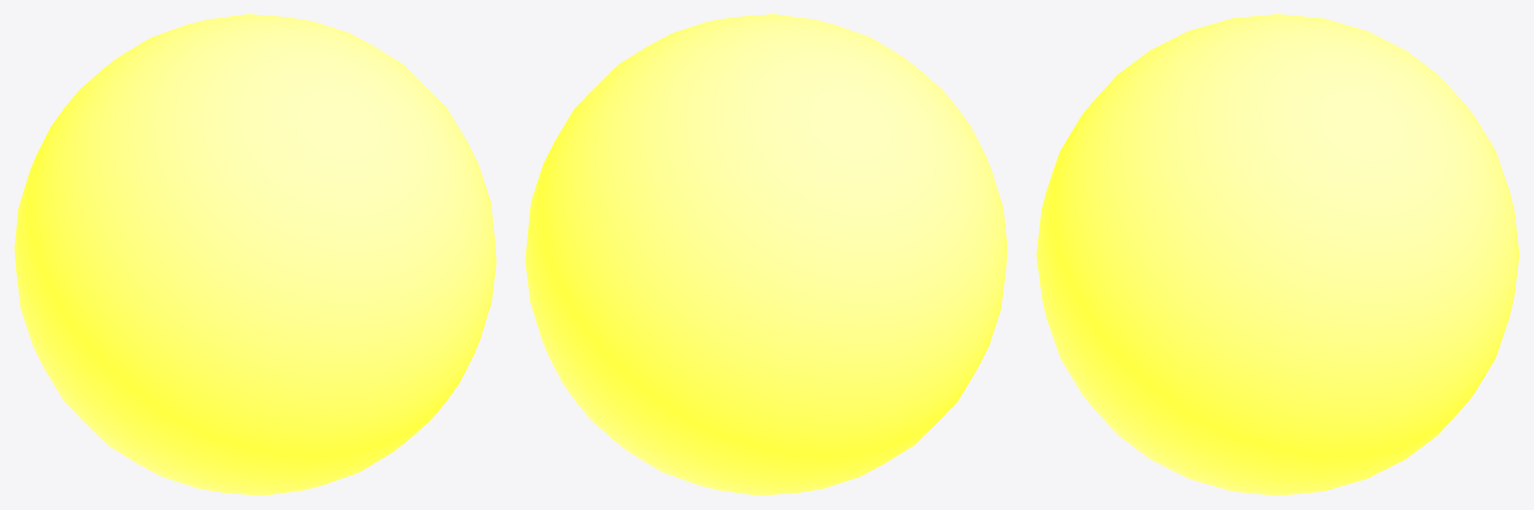
The model's file is SunSphere.glb.
The picture shows the model from 3 angles, left to right: view 1: azimuth 30°, elevation 25°; view 2: azimuth 150°, elevation 25°; view 3: azimuth 270°, elevation 25°; orthographic projection.
Visible parts, largest first — view 1: Sphere; view 2: Sphere; view 3: Sphere.
Boxes of the visible parts, box(x1,y1,x2,y2) form: Sphere: box(14, 14, 496, 495); Sphere: box(525, 14, 1007, 495); Sphere: box(1036, 14, 1519, 495).
Size of the model in its own units: 2 by 2 by 2.
